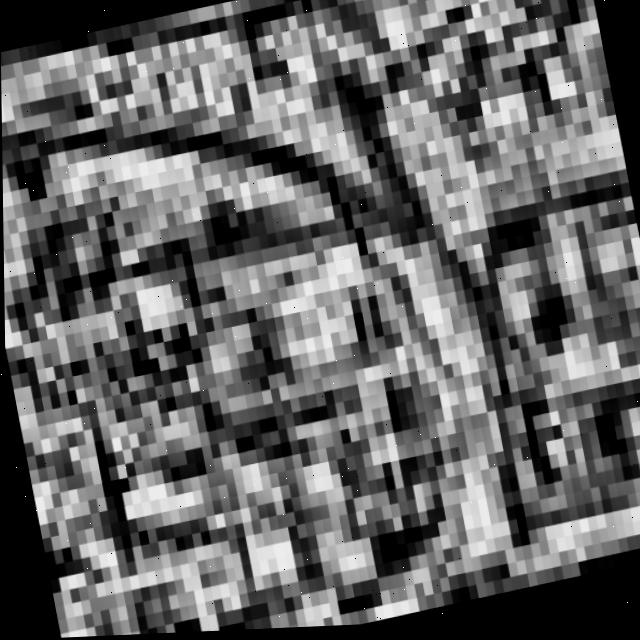excavator: (200, 132, 640, 633)
